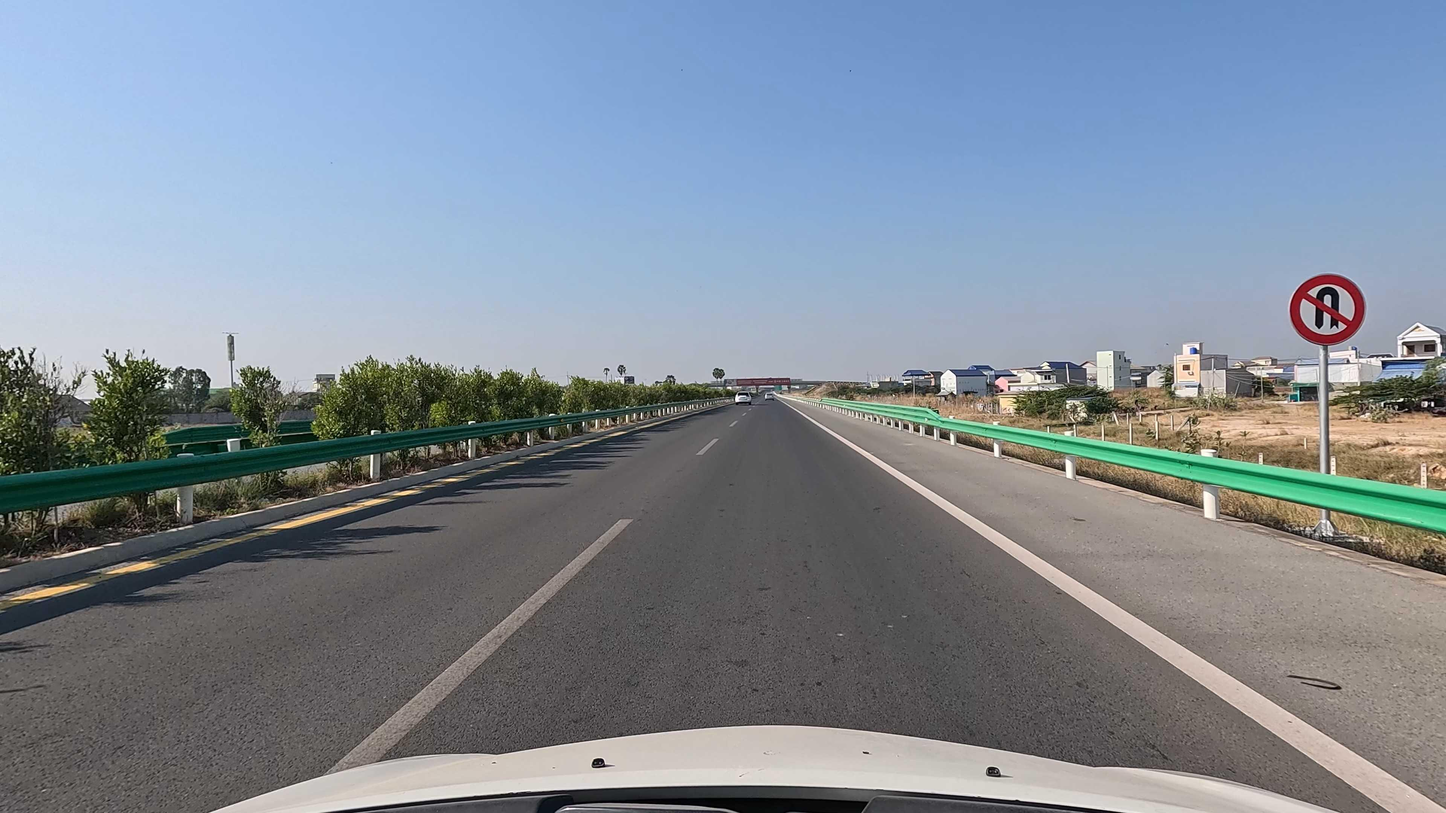no_u_turn: (1289, 273, 1366, 347)
